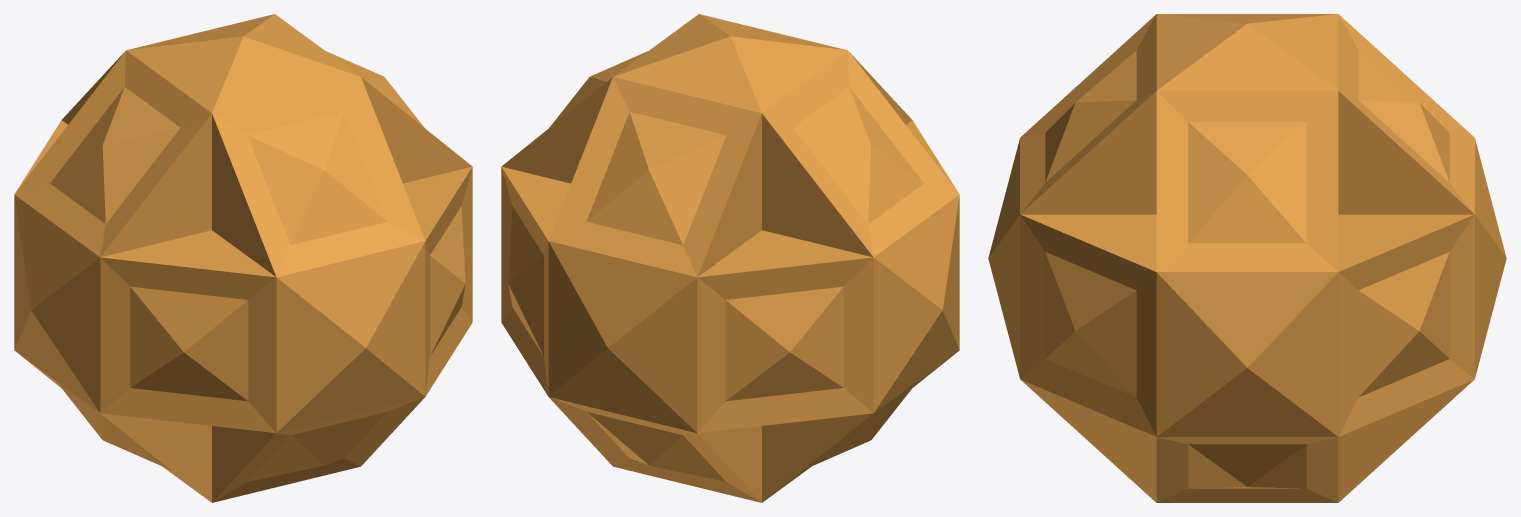
The model's file is Brute.fbx.
The picture shows the model from 3 angles, left to right: view 1: azimuth 30°, elevation 25°; view 2: azimuth 150°, elevation 25°; view 3: azimuth 270°, elevation 25°; orthographic projection. The views are drawn at different scales.
Parts seen in each view (by area): view 1: Cube; view 2: Cube; view 3: Cube.
Boxes of the visible parts, left/top/right/bottom form: Cube: left=14, top=14, right=472, bottom=502; Cube: left=501, top=14, right=959, bottom=502; Cube: left=988, top=14, right=1506, bottom=502.
Bounding box in the file's own units: 570 × 570 × 570.
